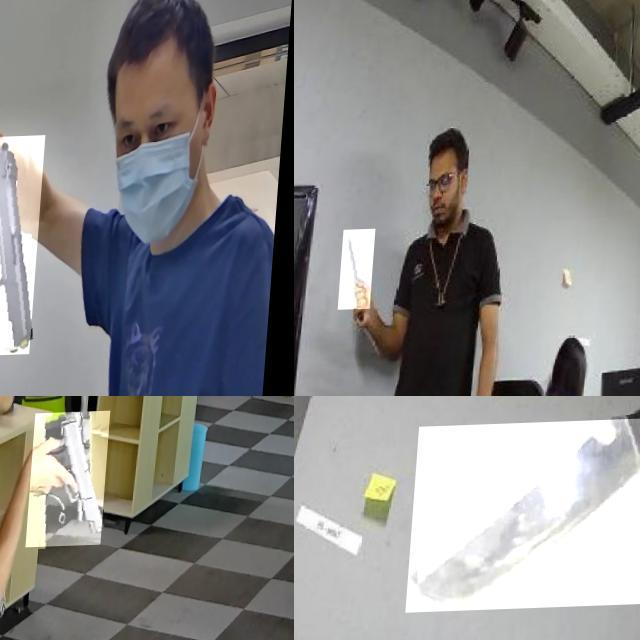-: (413, 421, 640, 614), (344, 231, 380, 311)
gun-knife-thesis - v11 Yolov5 augmented: (0, 138, 55, 360), (33, 413, 116, 549)
